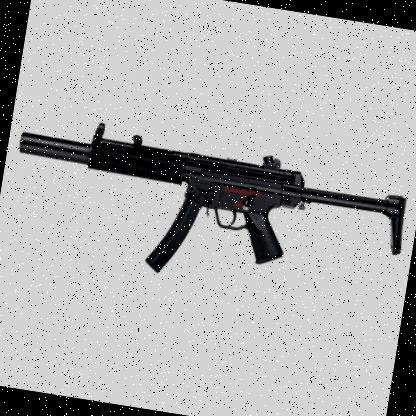rifle: (0, 86, 416, 310)
